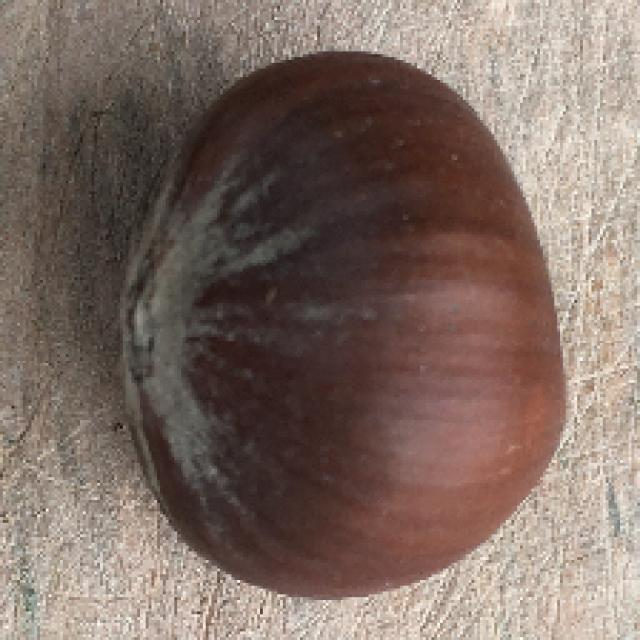qualityHazelnut: (112, 48, 573, 594)
